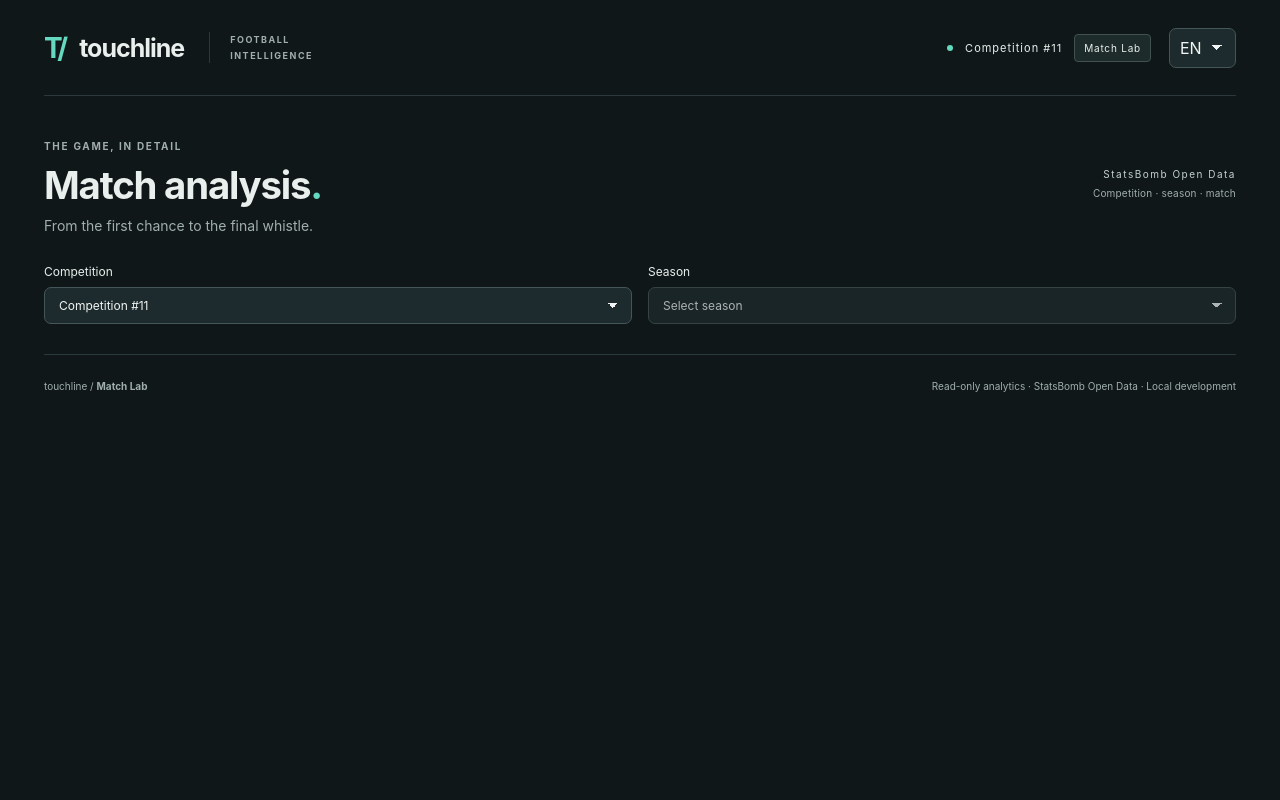
Test: aborts pending context requests and ignores late responses from the previous competition
Step 1. Select "Competition #90" in the dropdown labelled "Competition" → x=338, y=306, box [44,287,632,324]
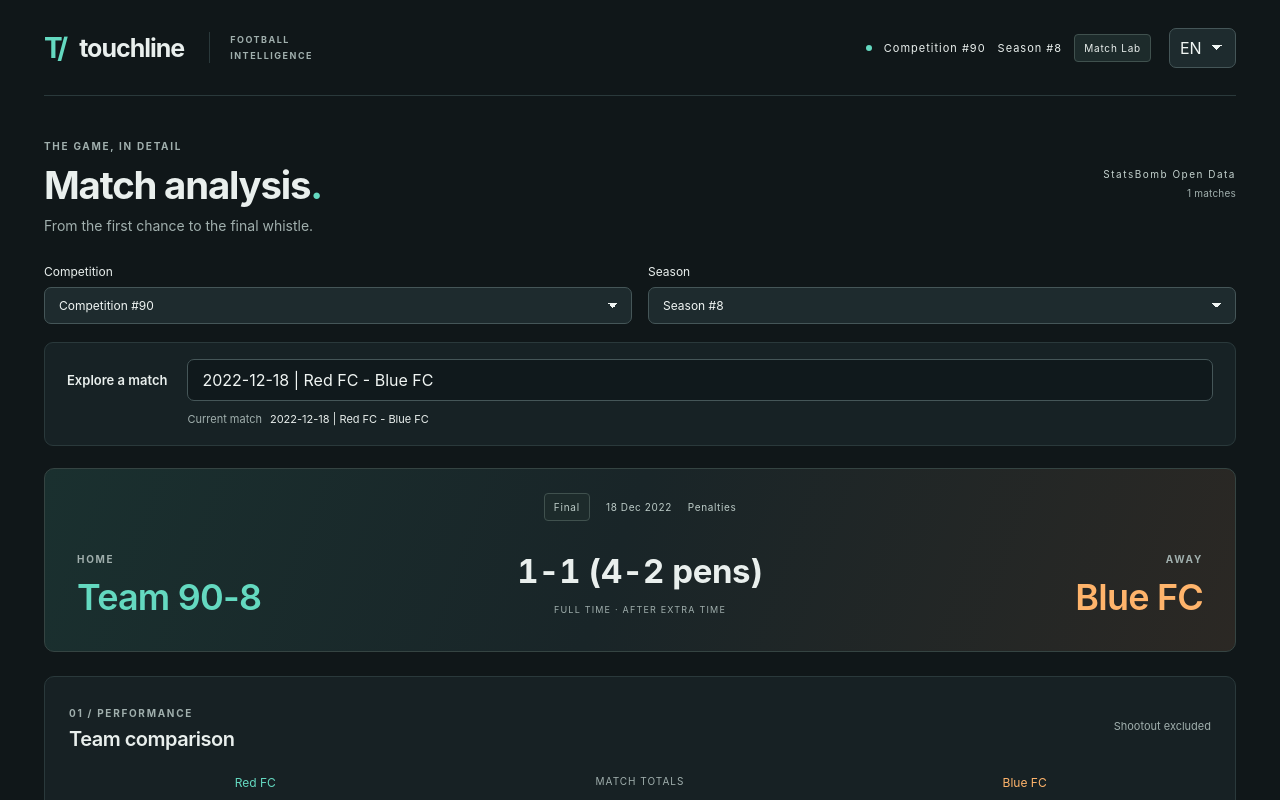
expect the element with test id "match-header" is shown: met, box [44,468,1236,652]
expect the element with test id "match-header" shows "Team 90-8": met, box [77,575,261,619]
